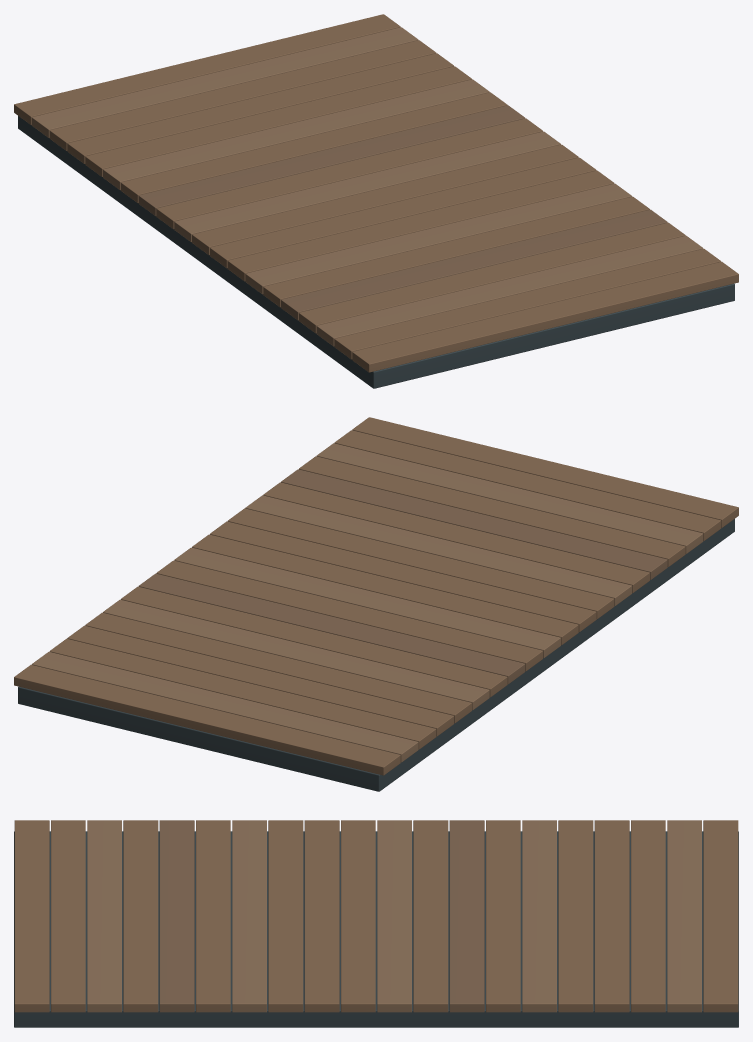
The model's file is city_boardwalk_01.glb.
The picture shows the model from 3 angles, top to bottom: view 1: azimuth 30°, elevation 25°; view 2: azimuth 150°, elevation 25°; view 3: azimuth 270°, elevation 25°; orthographic projection.
Visible parts, largest first — view 1: CityBoardwalk01_Mesh; view 2: CityBoardwalk01_Mesh; view 3: CityBoardwalk01_Mesh.
Part boxes in pixels (box(x1,y1,x2,y2)): CityBoardwalk01_Mesh: box(14, 14, 738, 388); CityBoardwalk01_Mesh: box(14, 417, 738, 791); CityBoardwalk01_Mesh: box(14, 820, 738, 1027).
Bounding box in the file's own units: 3.6 × 0.24 × 6.
